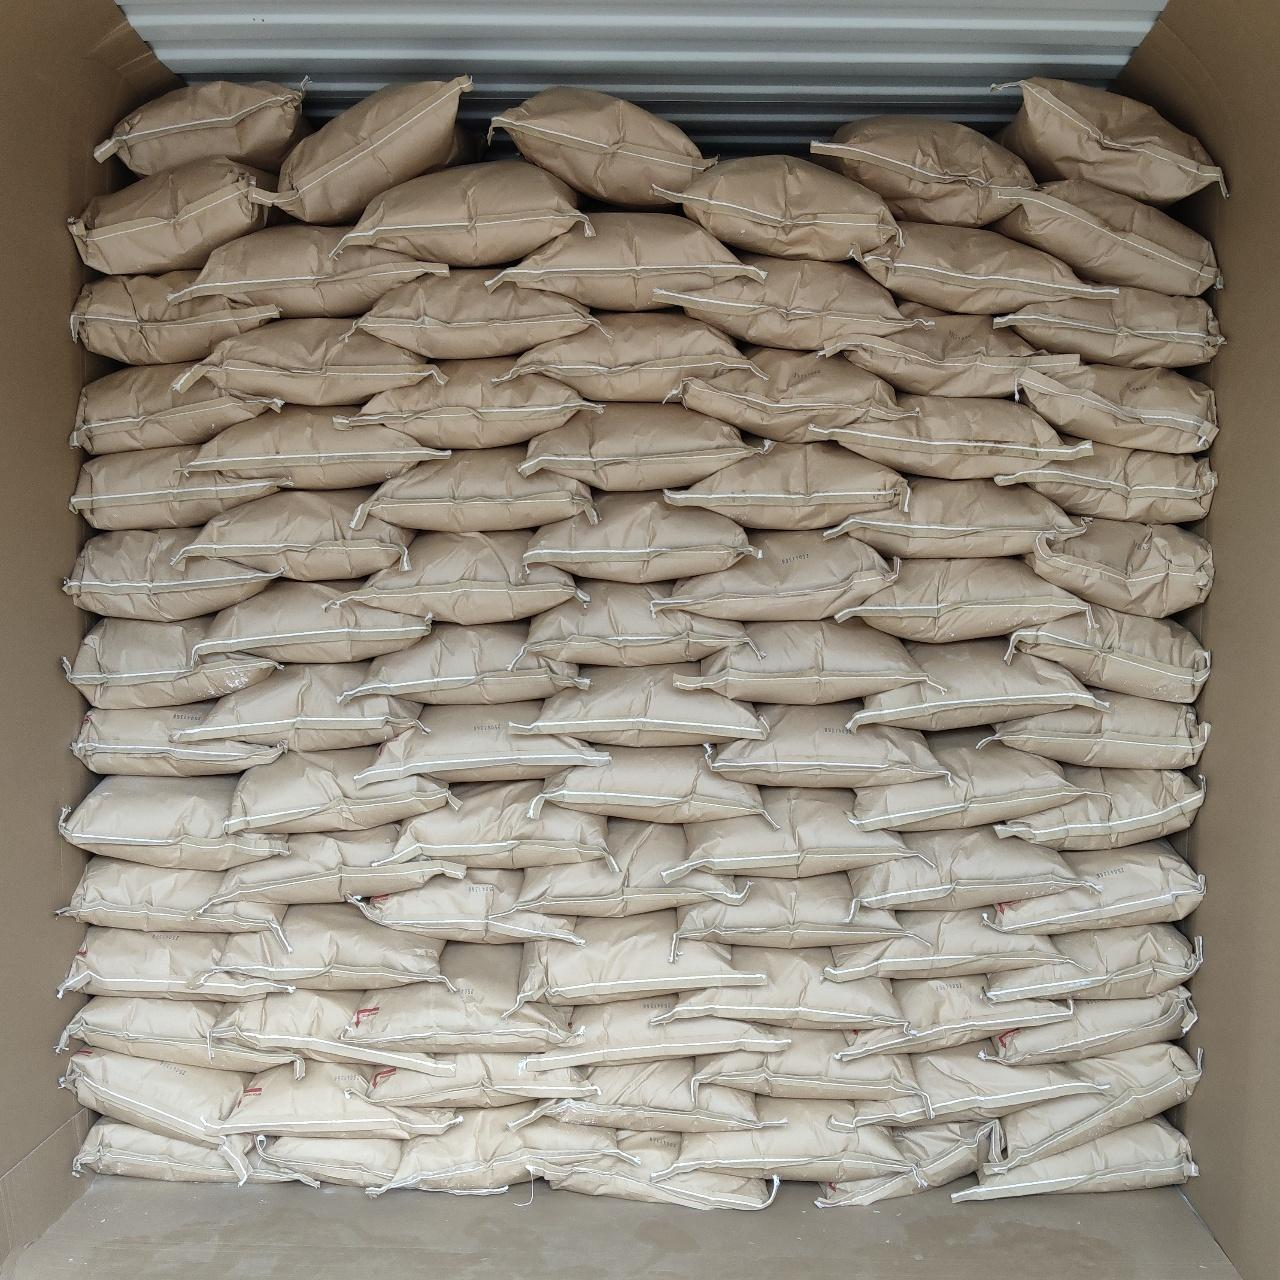sack: (270, 79, 472, 222), (1000, 79, 1223, 204), (986, 1044, 1198, 1172), (994, 178, 1220, 294), (493, 90, 712, 207), (342, 159, 588, 263), (832, 1042, 1104, 1132), (62, 1050, 252, 1179), (178, 226, 445, 316), (70, 159, 284, 270), (501, 215, 748, 309), (812, 118, 1039, 222), (358, 944, 572, 1051), (855, 728, 1078, 830), (855, 224, 1107, 314), (663, 256, 903, 350), (340, 358, 598, 445), (520, 912, 762, 1006), (678, 156, 894, 260), (370, 1104, 620, 1194), (840, 302, 1078, 396), (181, 318, 436, 404), (352, 702, 602, 788), (824, 396, 1085, 478), (356, 268, 595, 358), (676, 348, 912, 438), (852, 640, 1094, 728), (508, 312, 748, 400), (518, 821, 740, 915), (348, 530, 574, 622), (60, 776, 286, 869), (680, 788, 910, 878), (660, 532, 894, 620), (526, 492, 753, 583), (192, 406, 444, 486), (986, 840, 1201, 934), (186, 662, 422, 748), (668, 442, 906, 526), (680, 620, 924, 702), (509, 1058, 779, 1132), (212, 1060, 458, 1141), (354, 445, 590, 530), (1008, 604, 1210, 702), (954, 1116, 1196, 1198), (340, 622, 588, 702), (186, 490, 411, 578), (826, 478, 1082, 556), (94, 82, 309, 173), (838, 558, 1085, 638), (710, 702, 944, 787), (60, 856, 286, 942), (850, 826, 1085, 910), (836, 976, 1070, 1060), (522, 404, 758, 486), (215, 824, 462, 903), (670, 946, 900, 1030), (670, 1096, 898, 1180), (522, 663, 764, 742), (64, 527, 270, 620), (394, 779, 606, 869), (524, 996, 788, 1068), (222, 904, 444, 988), (195, 583, 430, 662), (222, 748, 450, 830), (522, 580, 750, 662), (57, 996, 300, 1073), (72, 274, 275, 365), (72, 365, 280, 452), (215, 990, 444, 1070), (824, 908, 1068, 982), (530, 745, 765, 822), (66, 618, 278, 702), (1024, 520, 1212, 614), (996, 288, 1223, 366), (1016, 365, 1214, 452), (347, 869, 583, 942), (996, 442, 1214, 522), (542, 1132, 776, 1206), (74, 1116, 318, 1186), (996, 765, 1201, 847), (980, 692, 1206, 765), (678, 874, 904, 948), (72, 445, 278, 526), (986, 988, 1196, 1064), (986, 924, 1201, 998), (60, 928, 290, 998), (816, 1121, 998, 1206), (694, 1030, 915, 1098), (74, 704, 278, 774), (362, 1054, 598, 1108), (250, 1136, 399, 1186)
